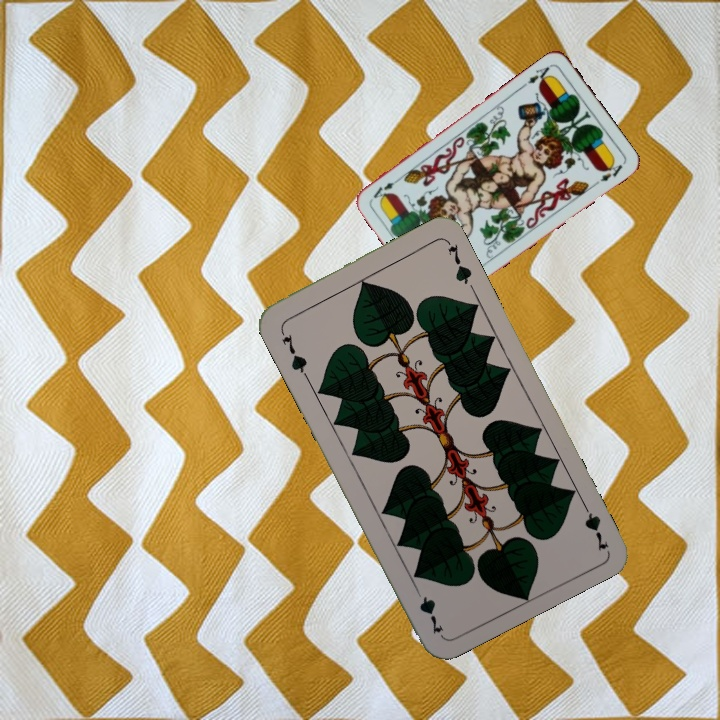EA: (523, 61, 555, 87)
G7: (577, 495, 611, 554), (276, 324, 310, 379)
